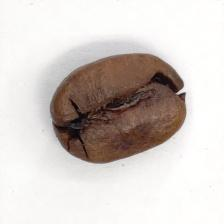NG: (69, 72, 171, 133)
